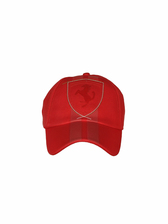other: (38, 72, 130, 159)
